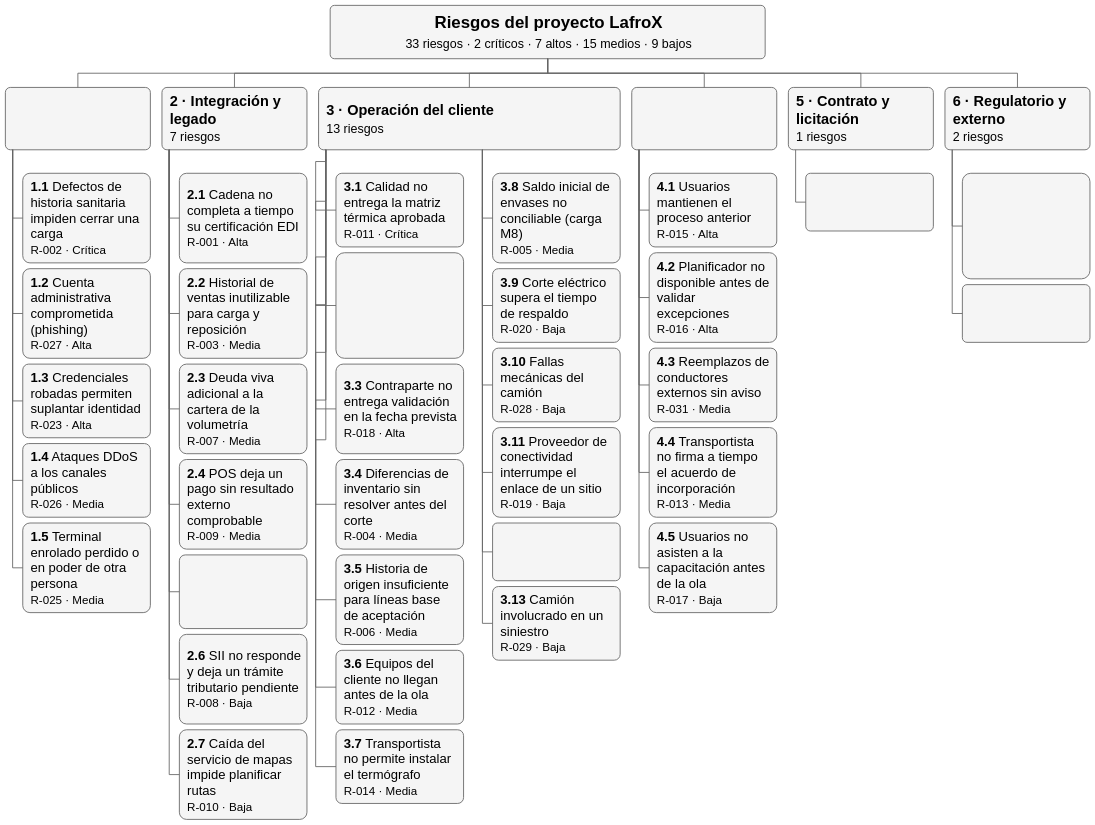
Some shapes in this 1095 by 825 pixel diagram are drawn without their labels. The box of each missing label's shape, as (x1, y1, x2, y2) in pixels:
1 · Solución y tecnología 5 riesgos: (5, 87, 151, 150)
2.5 Mensaje EDI falso o alterado de una cadena R-024 · Baja: (179, 554, 307, 629)
3.12 Asalto a camión R-030 · Baja: (492, 522, 620, 581)
3.2 Cliente no autoriza intervención urgente en congelamiento R-022 · Alta: (335, 252, 464, 359)
4 · Personas y adopción 5 riesgos: (631, 87, 777, 150)
5.1 Solicitudes que amplían el alcance R-032 · Media: (805, 173, 934, 231)
6.1 Falta aprobación del cliente para datos en regiones de nube R-021 · Media: (962, 173, 1090, 279)
6.2 Cambios normativos R-033 · Media: (962, 284, 1090, 343)
